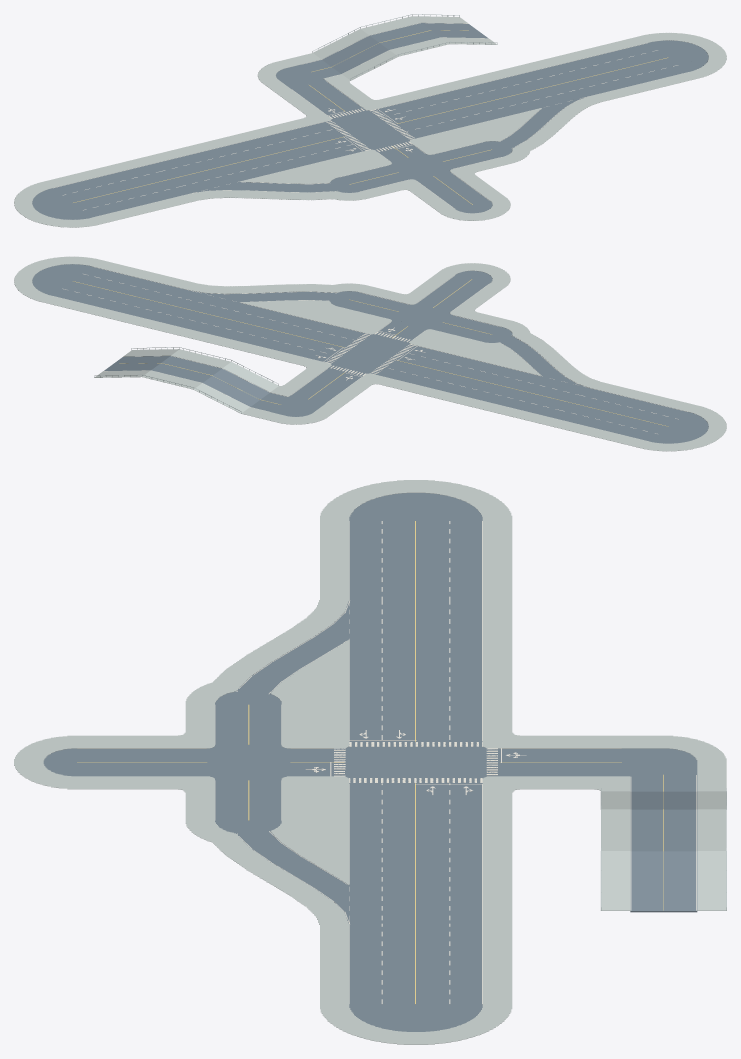
File: network-w88-s78.glb
3 renders of one model, top to bottom at view 1: azimuth 30°, elevation 25°; view 2: azimuth 150°, elevation 25°; view 3: azimuth 270°, elevation 25°, orthographic. The views are drawn at different scales.
Visible parts, largest first — view 1: Road_surface, Sidewalks, Lane_markings, Ramp_surface, Crosswalks, Bridge_railings; view 2: Road_surface, Sidewalks, Lane_markings, Ramp_surface, Crosswalks, Bridge_railings; view 3: Road_surface, Sidewalks, Ramp_surface, Lane_markings, Crosswalks.
Part boxes in pixels (x1,y1,x2,y2): Road_surface: (32,23,708,219); Sidewalks: (14,16,726,227); Lane_markings: (53,23,682,215); Ramp_surface: (322,23,487,73); Crosswalks: (325,108,414,151); Bridge_railings: (312,14,497,80); Road_surface: (32,264,708,443); Sidewalks: (14,256,726,451); Lane_markings: (62,266,687,434); Ramp_surface: (104,356,269,406); Crosswalks: (325,332,415,375); Bridge_railings: (94,347,278,413); Road_surface: (43,493,697,1031); Sidewalks: (14,480,726,1044); Ramp_surface: (630,791,697,912); Lane_markings: (77,521,696,1004); Crosswalks: (334,742,497,782).
Size of the model in its own units: 350 by 7.51 by 187.
